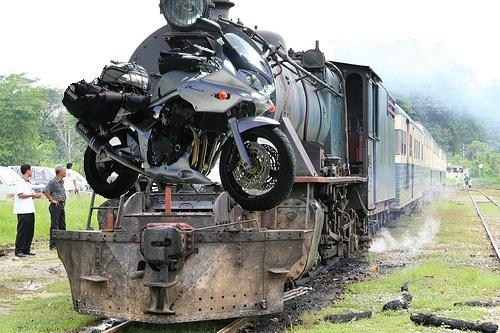tampered: (63, 19, 296, 211)
